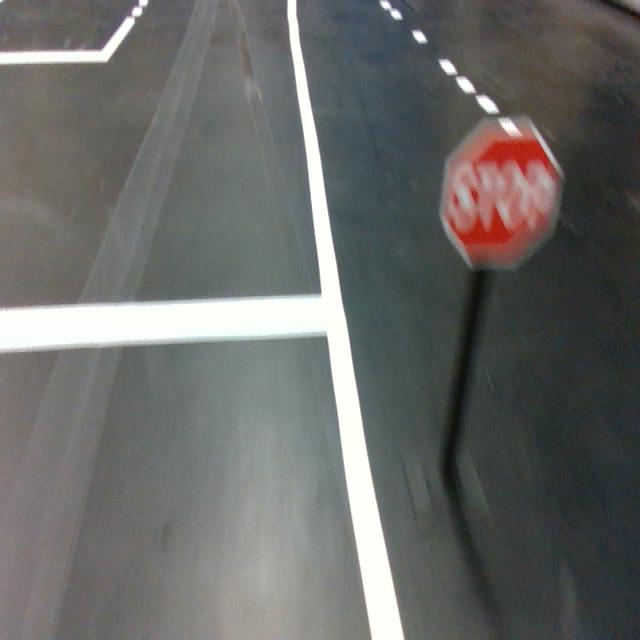stop-sign: (439, 117, 566, 270)
